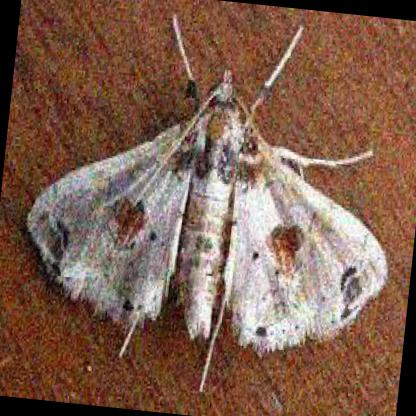leucinodes: (25, 72, 387, 353)
